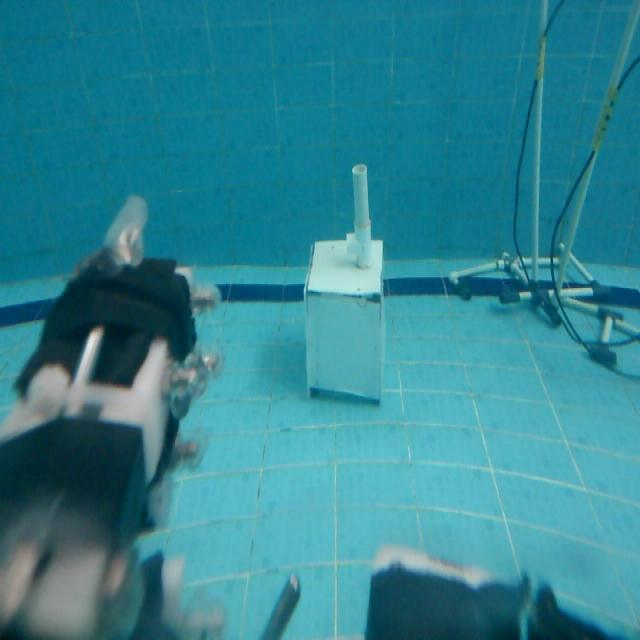Cube: (302, 232, 386, 404)
